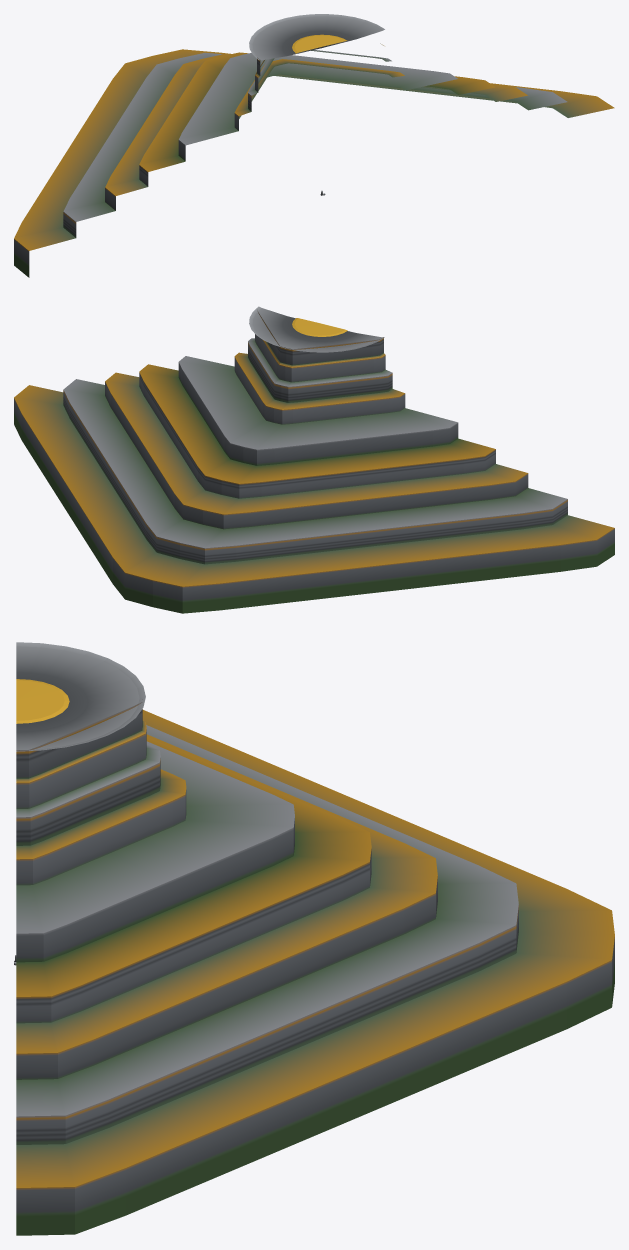
The model's file is temple-s1-C4TEQPCx.glb.
The picture shows the model from 3 angles, top to bottom: view 1: azimuth 30°, elevation 25°; view 2: azimuth 150°, elevation 25°; view 3: azimuth 270°, elevation 25°; orthographic projection. The views are drawn at different scales.
Parts seen in each view (by area): view 1: sc_landmark_0; view 2: sc_landmark_0; view 3: sc_landmark_0.
Part boxes in pixels (x1=…): sc_landmark_0: x1=14, y1=14, x2=614, y2=277; sc_landmark_0: x1=14, y1=306, x2=614, y2=613; sc_landmark_0: x1=16, y1=642, x2=614, y2=1235.
Size of the model in its own units: 758 by 200 by 381.
